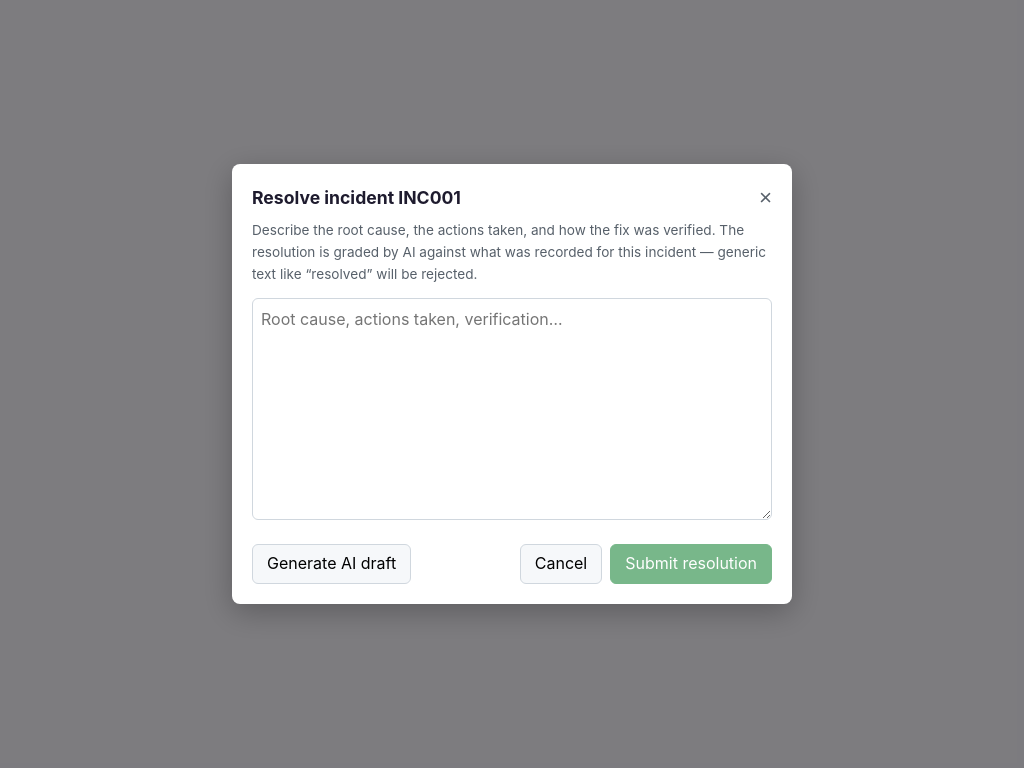
Test: ResolutionModal › shows an error when submission fails
This screenshot has width=1024, height=768.
Step 1. Type "Some resolution text" into the text box named "Resolution text" → coordinates (512, 409), box [252,298,772,520]
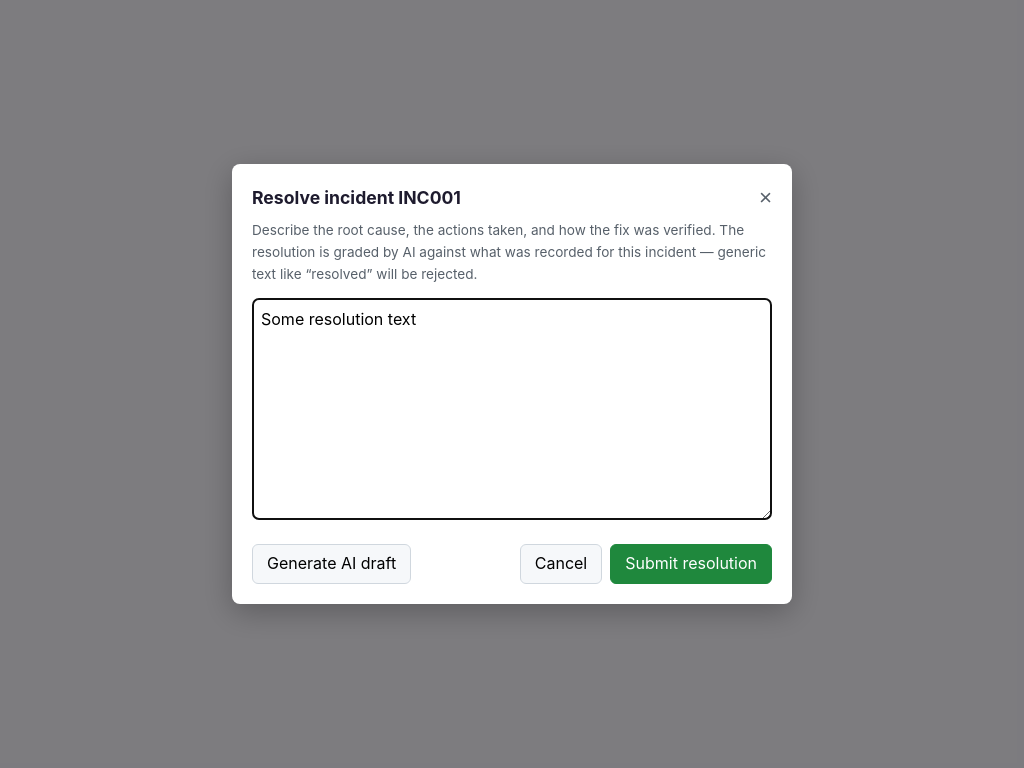
Step 2. Click the button "Submit resolution" → coordinates (691, 564), box [610,544,772,584]
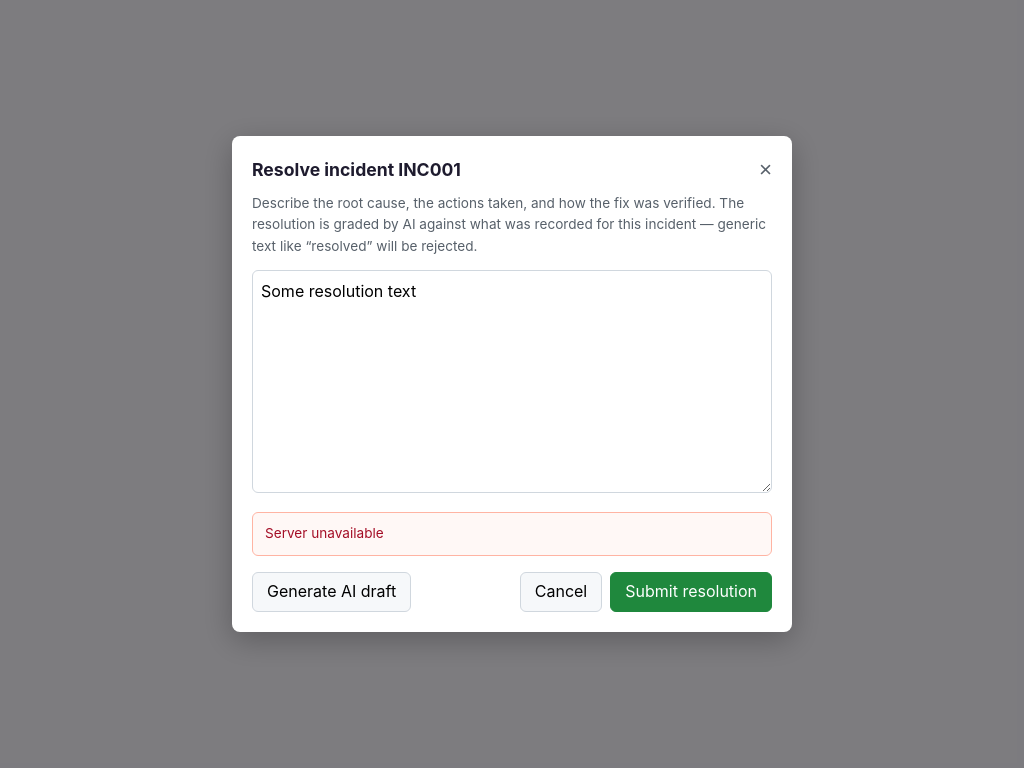
Now the message reads "Server unavailable", box [265,525,384,541]
